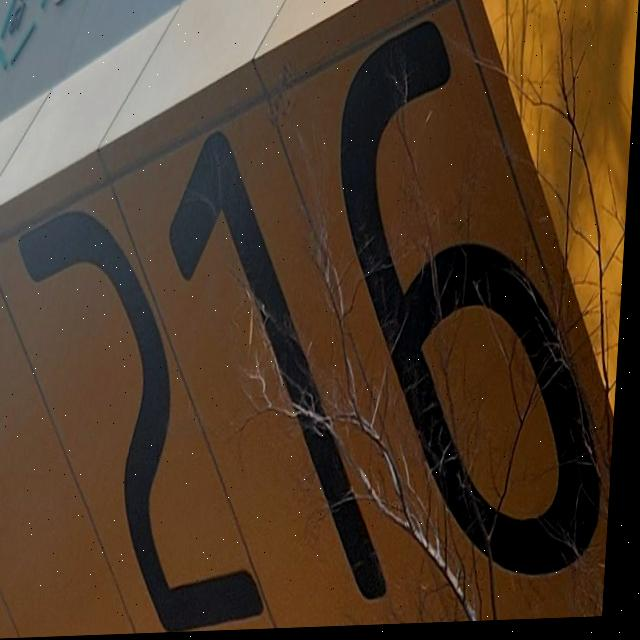character: (310, 4, 634, 588), (144, 116, 419, 615), (0, 196, 294, 639)
